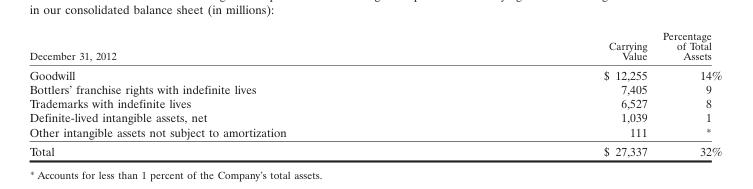table: (28, 28, 721, 158)
table column: (28, 28, 444, 158), (444, 28, 654, 158), (654, 28, 721, 158)
table column header: (28, 28, 721, 64)
table row: (28, 28, 721, 64), (28, 64, 721, 81), (28, 124, 721, 141), (28, 141, 721, 158), (28, 81, 721, 96), (28, 96, 721, 110), (28, 110, 721, 124)
